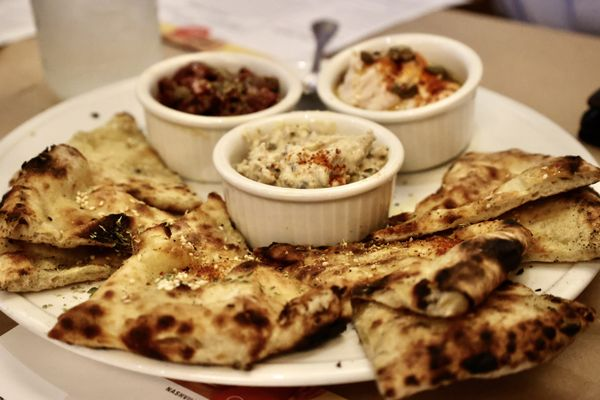pizza: (32, 0, 164, 101)
salad: (298, 16, 340, 104), (308, 17, 339, 74)
sushi: (212, 109, 405, 249), (316, 32, 483, 174), (135, 47, 303, 182)
